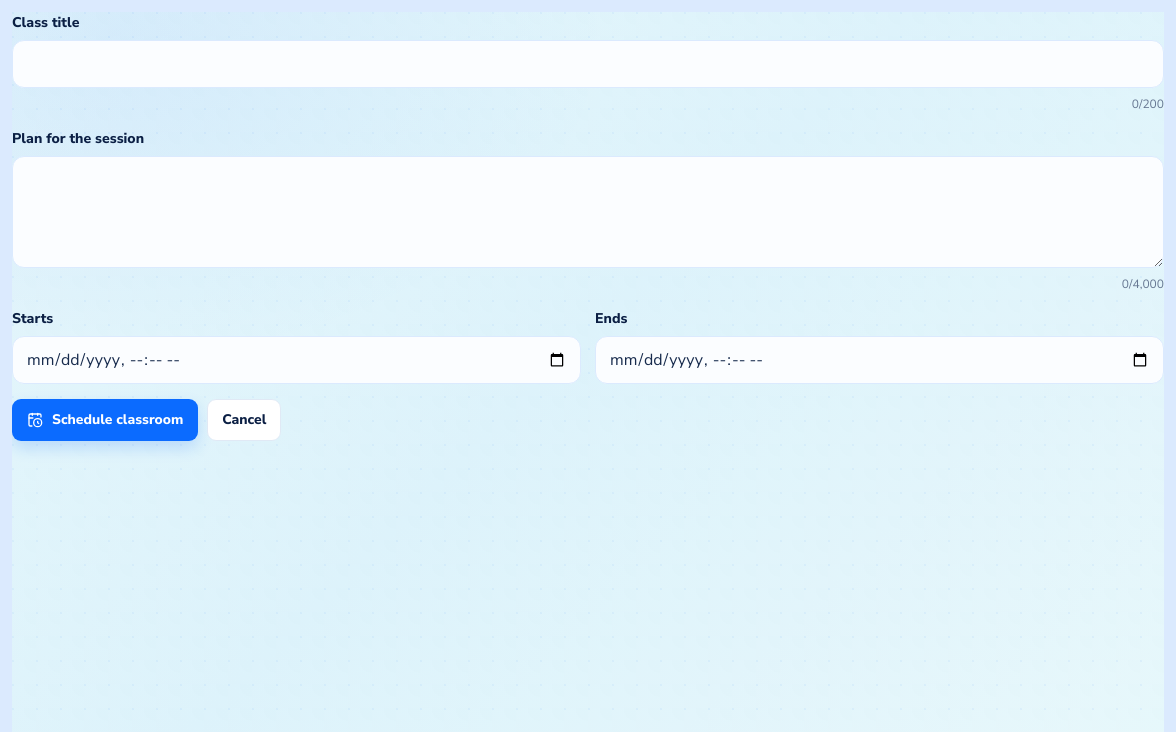
it: Classrooms › rejects an end time that is not after the start time
Type "Study circle" into the field labelled "Class title".
click(588, 64); type("Study circle")  # box [12,40,1164,88]
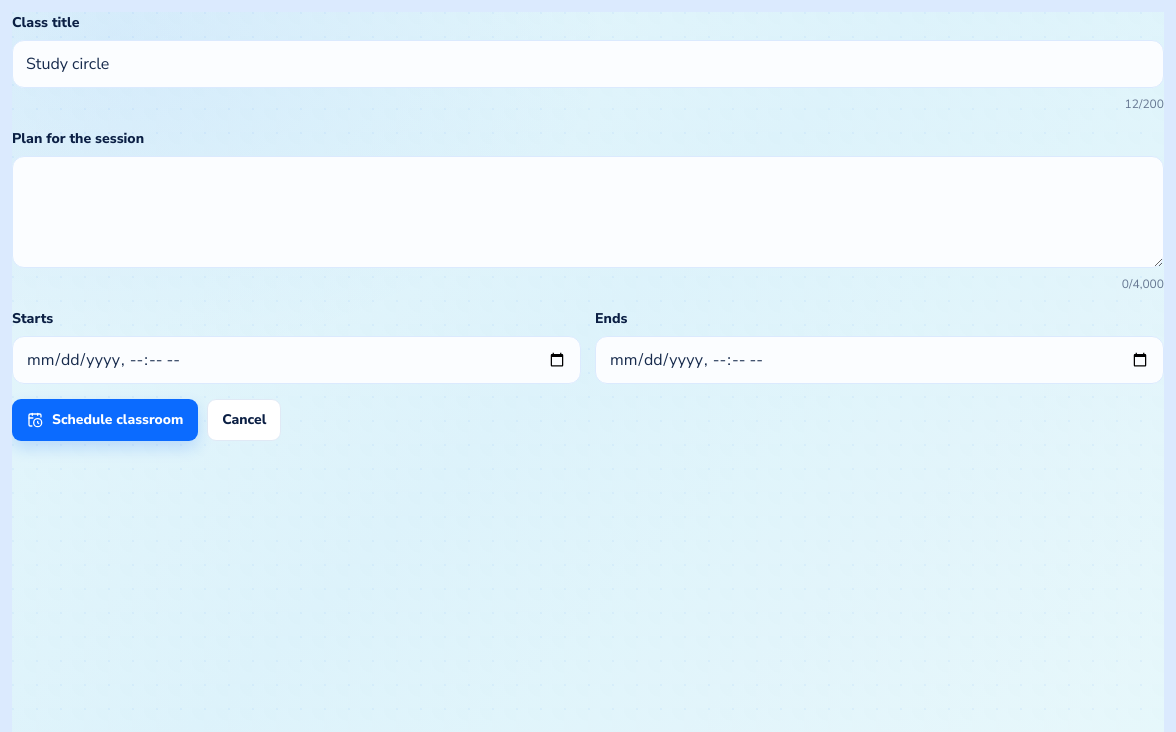
Type "2026-10-10T14:00" into the field labelled "Starts".
click(296, 360); type("2026-10-10T14:00")  # box [12,336,581,384]
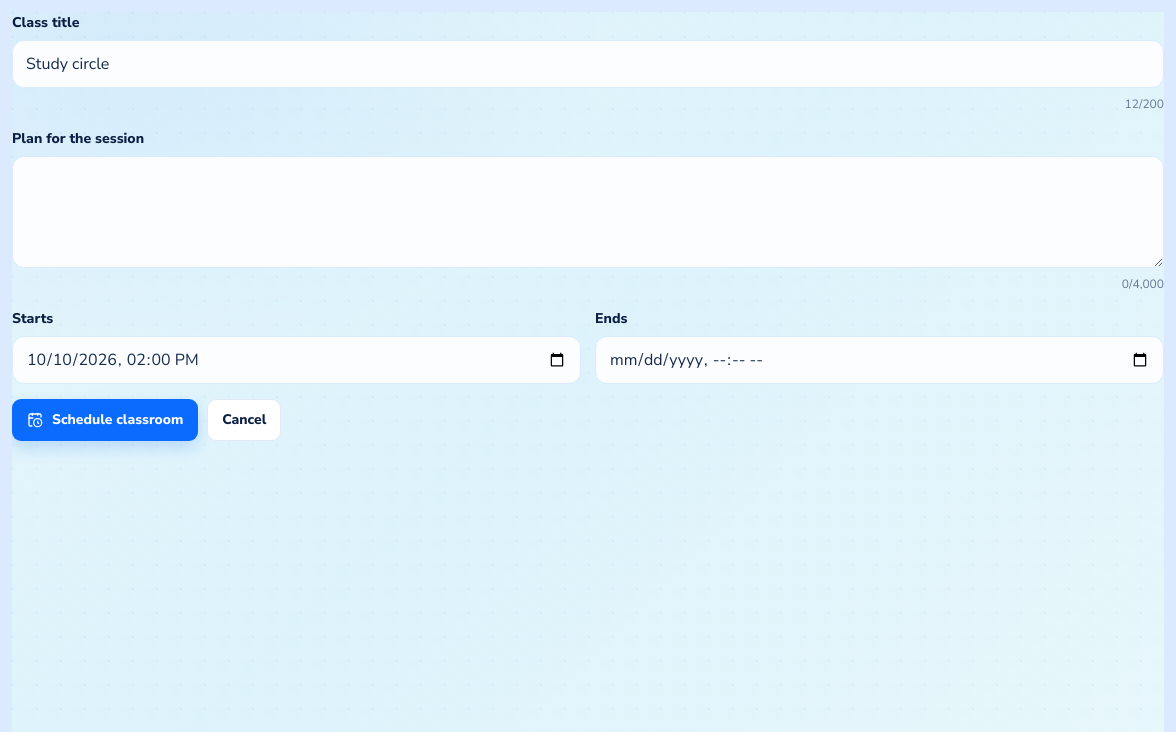
Type "2026-10-10T13:00" into the field labelled "Ends".
click(880, 360); type("2026-10-10T13:00")  # box [595,336,1164,384]
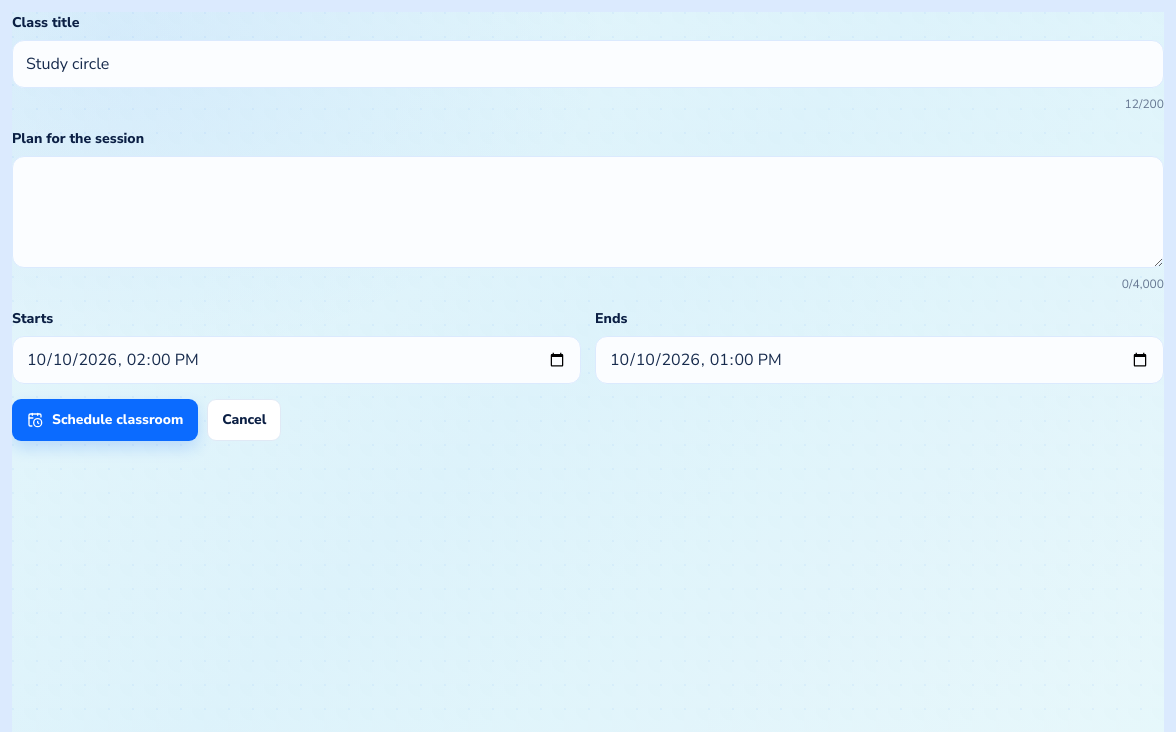
Click the button "Schedule classroom".
click(105, 420)  # box [12,399,198,441]
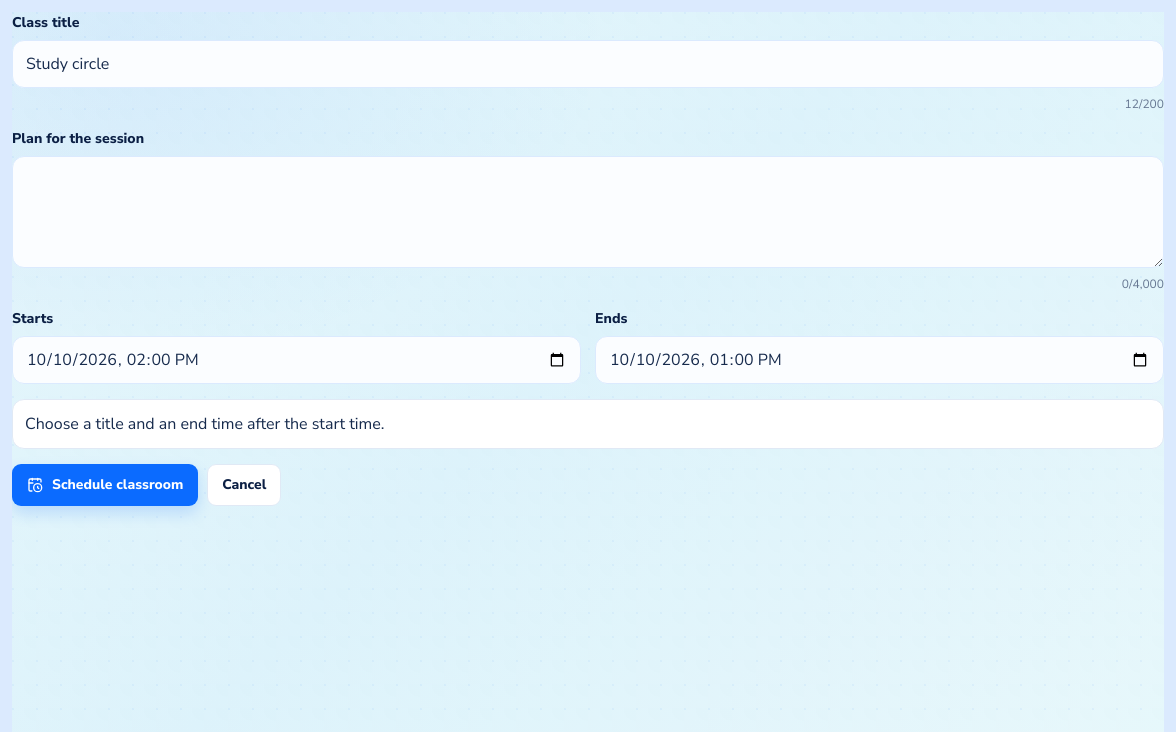
Expected: the message shows "end time after the start time", [25,413,384,435]
